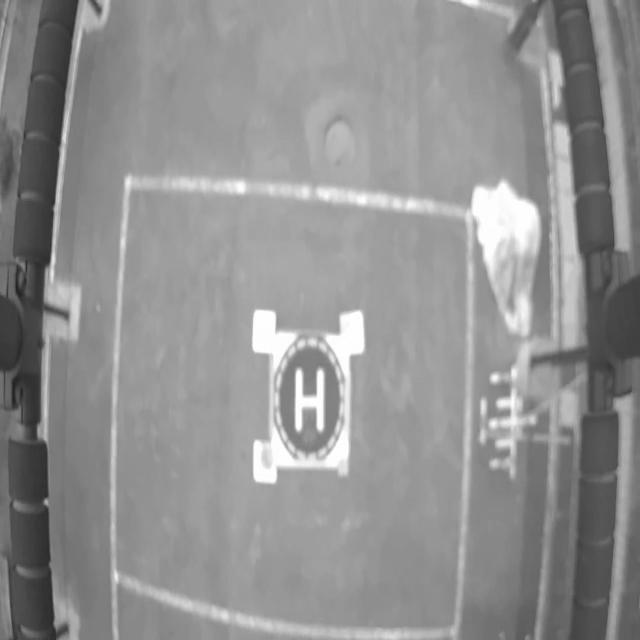Helipad: (294, 367, 325, 433)
